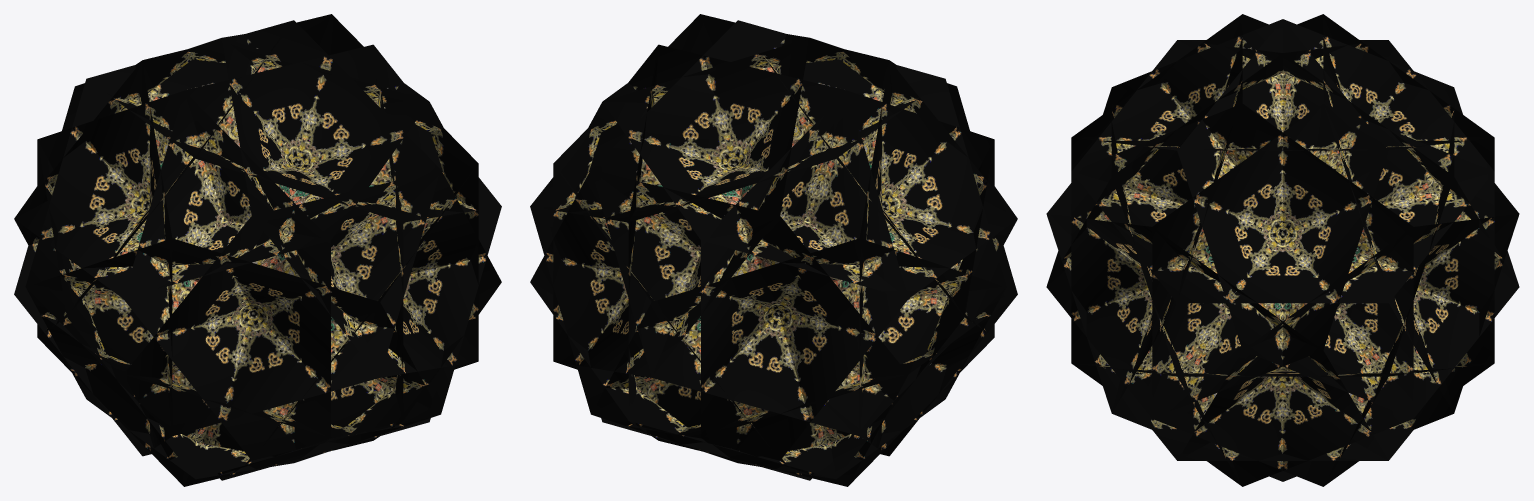
File: GreatDodecicosahedron5.gltf
3 views of the same model, side by side, from view 1: azimuth 30°, elevation 25°; view 2: azimuth 150°, elevation 25°; view 3: azimuth 270°, elevation 25° (orthographic). The views are drawn at different scales.
Parts seen in each view (by area): view 1: GreatDodecicosahedron; view 2: GreatDodecicosahedron; view 3: GreatDodecicosahedron.
Part boxes in pixels (<box>): GreatDodecicosahedron: <box>14,14,501,486</box>; GreatDodecicosahedron: <box>530,14,1017,486</box>; GreatDodecicosahedron: <box>1046,14,1519,486</box>.
Size of the model in its own units: 2.24 by 2.24 by 2.24.
Materials: 1 (1 with a texture image).
